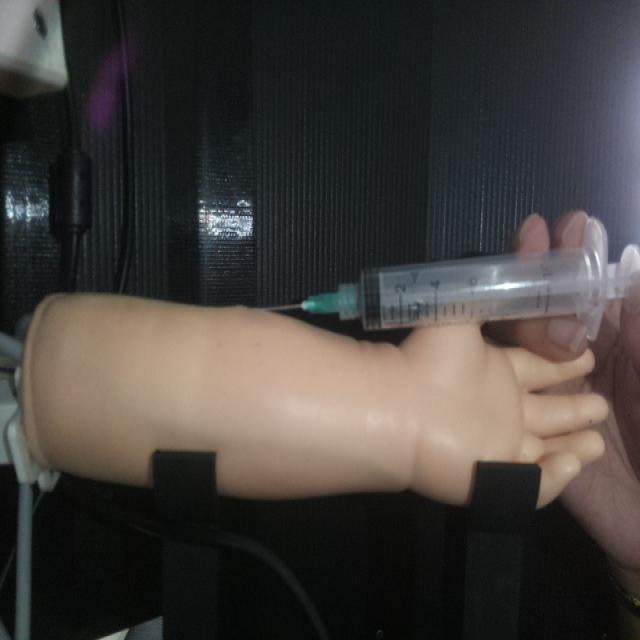Below 15 degrees: (261, 233, 638, 339)
